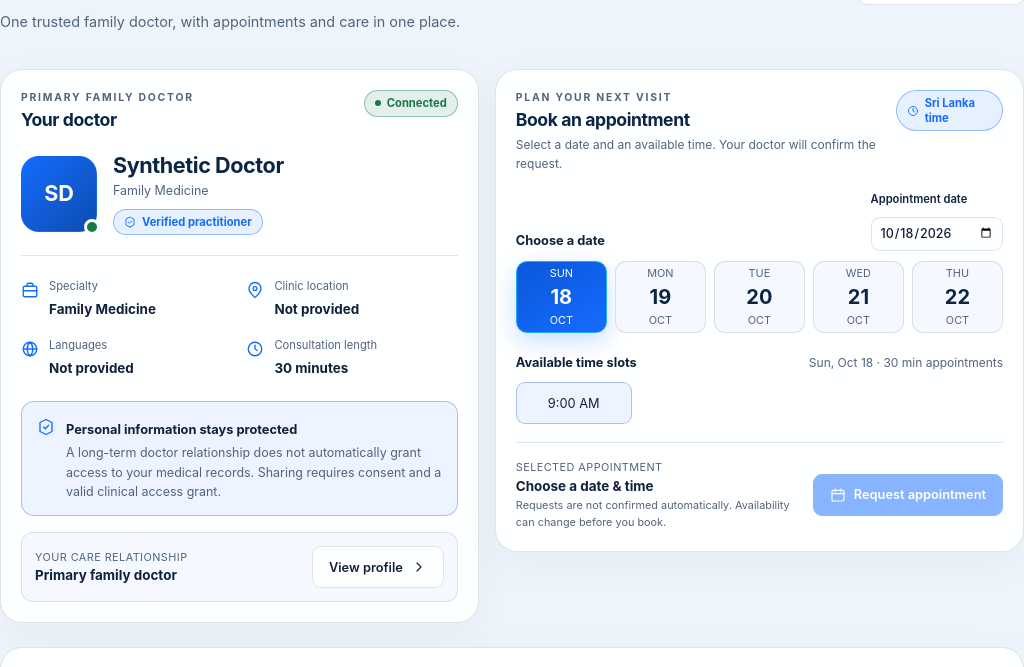
it: MyDoctor relationship states › keeps the directory collapsed for an assigned family and carries the chosen slot to booking
Check: the button "Request appointment" is disabled, box [813,474,1003,516]
Click the button "9:00 AM".
click(574, 403)  # box [516,382,632,424]
(page scrolled)
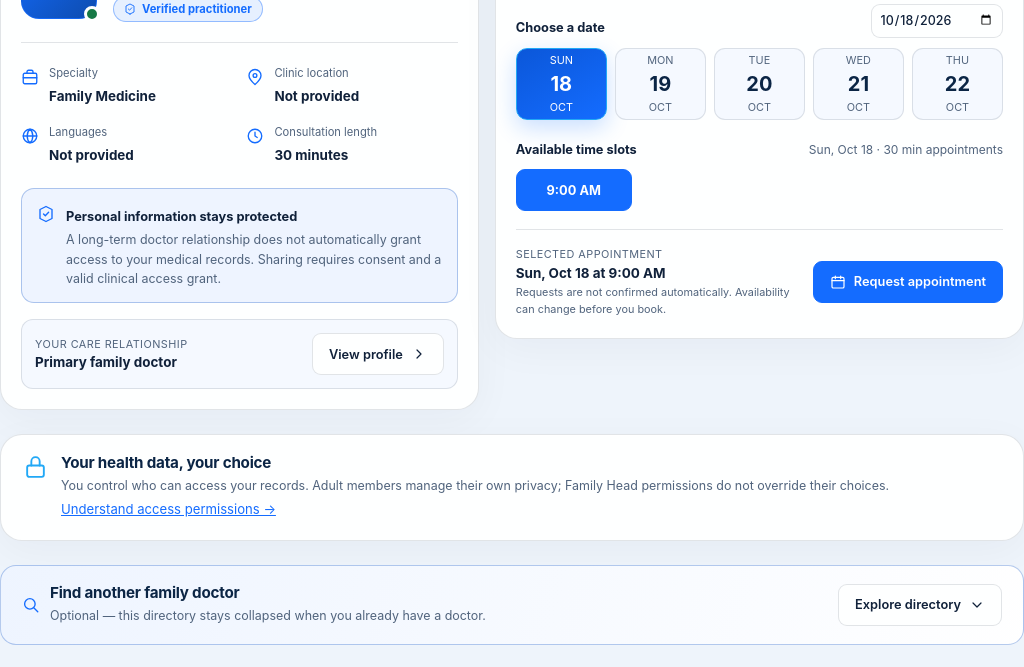
Click the button "Explore directory".
click(920, 604)  # box [838,584,1002,626]
(page scrolled)
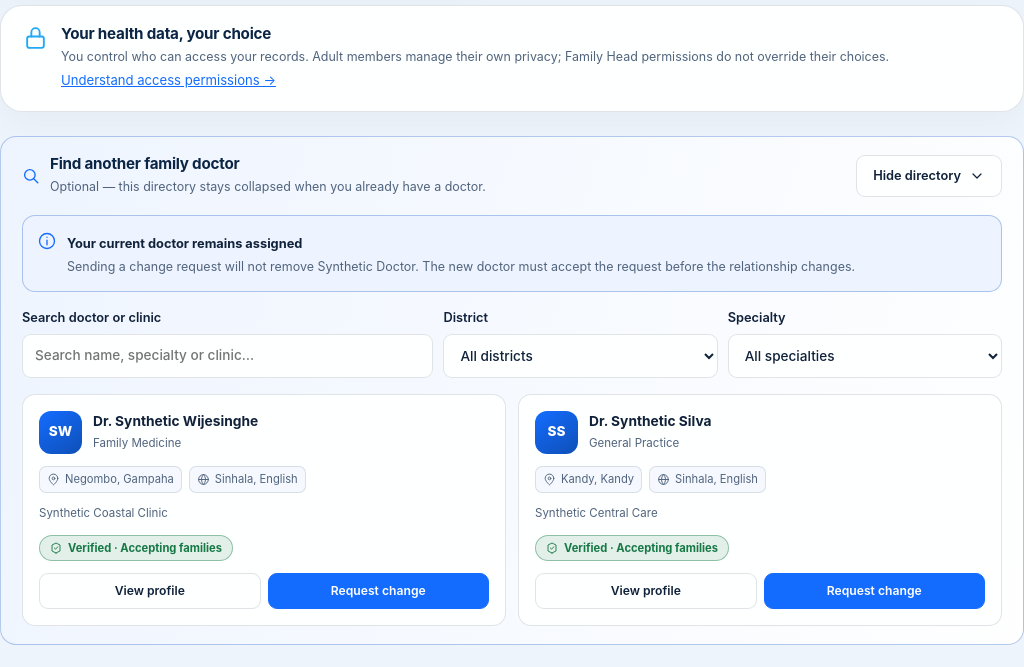
Check: the button with aria-label "Request change to Dr. Synthetic Wijesinghe" is shown, box [268,573,489,609]
